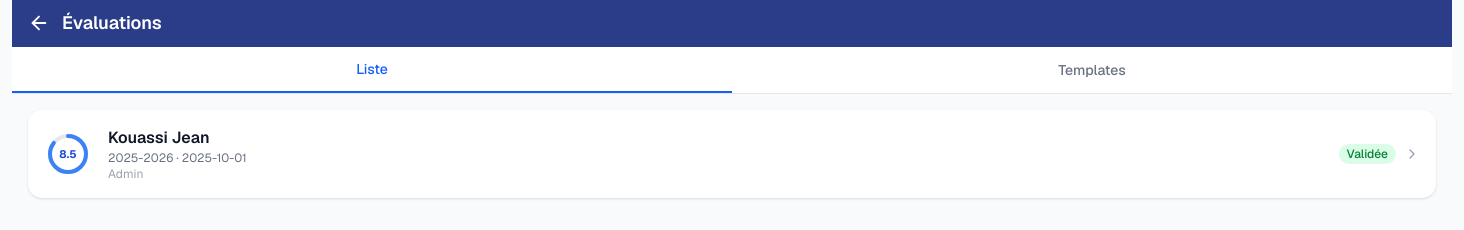
Test: Admin Evaluations › passe sur l'onglet Templates et affiche le nom du template
The image size is (1464, 230).
Expected: the text "Kouassi Jean" is shown, 108,126 -> 210,148
Click the tab "Templates": (1092, 70) 732,46 -> 1452,92
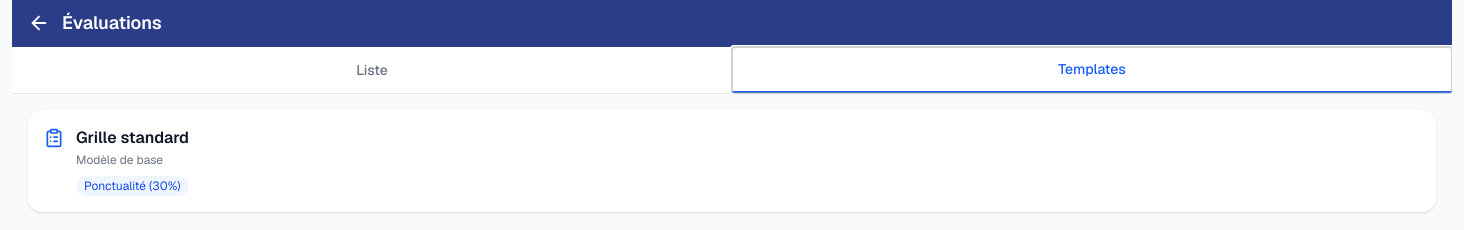
Result: the text "Grille standard" is shown at 76,126 -> 189,148
